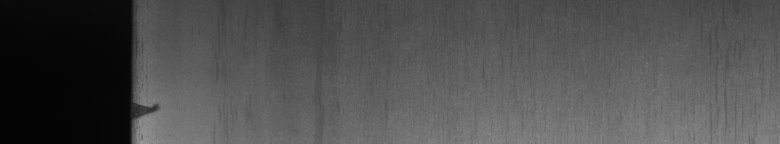hb: (140, 97, 164, 124)
